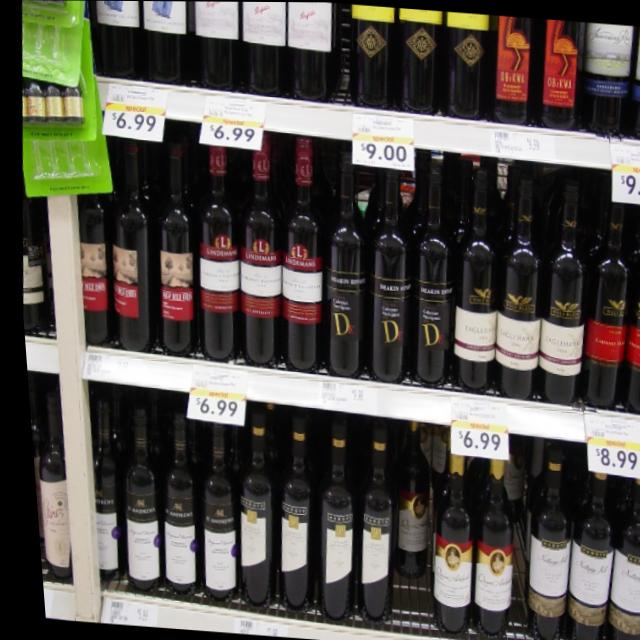q175: (260, 133, 339, 369), (221, 140, 299, 367), (183, 134, 250, 351)
